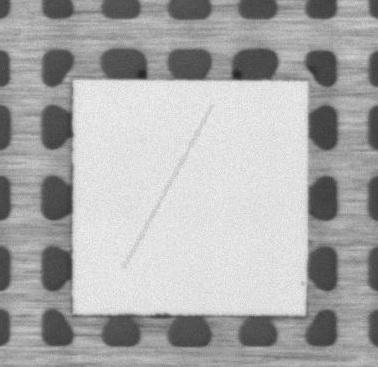DIE_CRACK: (128, 102, 219, 259)
